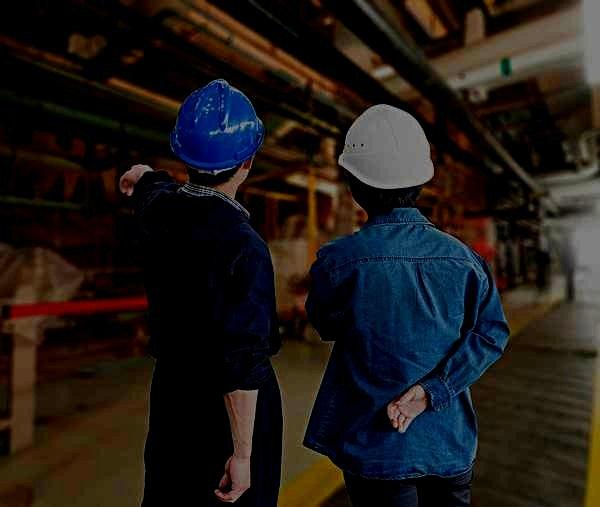helmet: (168, 78, 264, 193), (337, 103, 435, 213)
